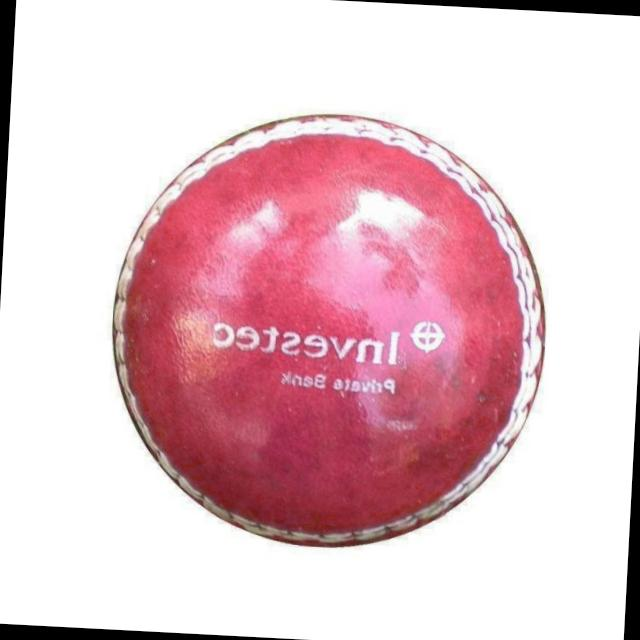ball: (97, 101, 562, 564)
